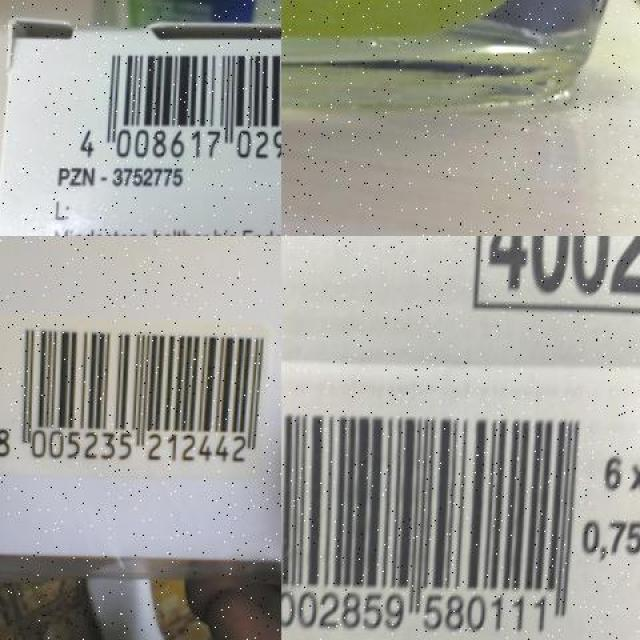Barcode: (281, 376, 588, 640), (0, 316, 271, 472), (72, 36, 281, 167)
